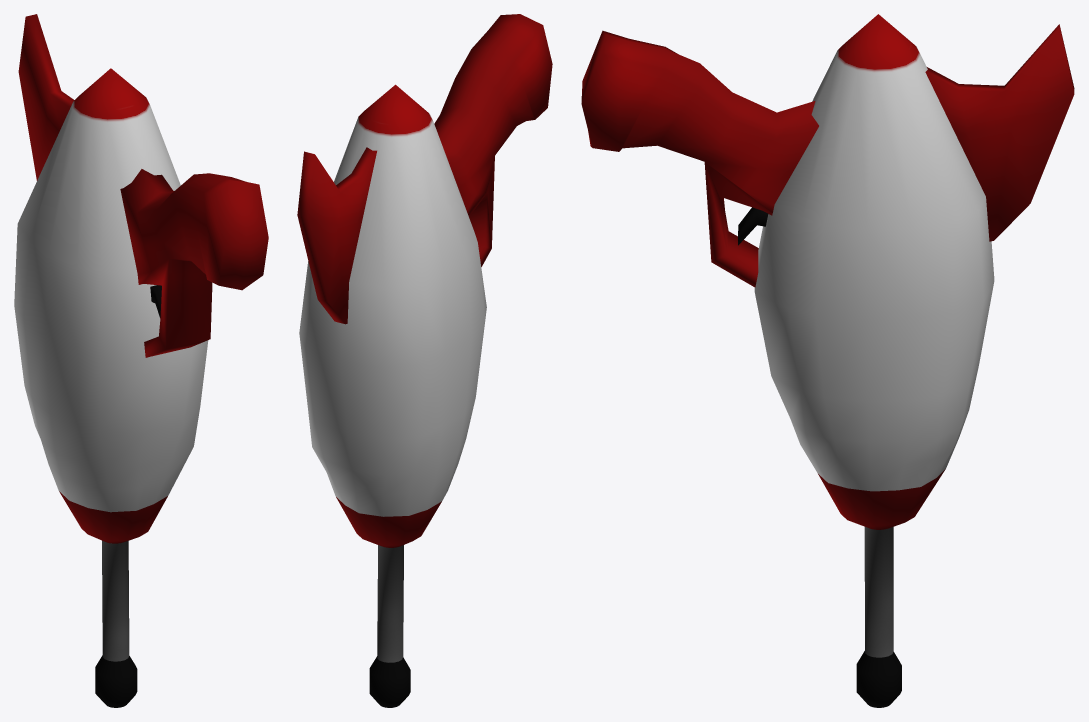
File: AlienBlaster.fbx
The picture shows the model from 3 angles, left to right: view 1: azimuth 30°, elevation 25°; view 2: azimuth 150°, elevation 25°; view 3: azimuth 270°, elevation 25°; orthographic projection. The views are drawn at different scales.
Parts seen in each view (by area): view 1: Cylinder.003; view 2: Cylinder.003; view 3: Cylinder.003.
Boxes of the visible parts, left/top/right/bottom form: Cylinder.003: left=14, top=14, right=268, bottom=707; Cylinder.003: left=297, top=14, right=552, bottom=707; Cylinder.003: left=581, top=14, right=1074, bottom=707.
Bounding box in the file's own units: 0.0767 × 0.3108 × 0.2024.
